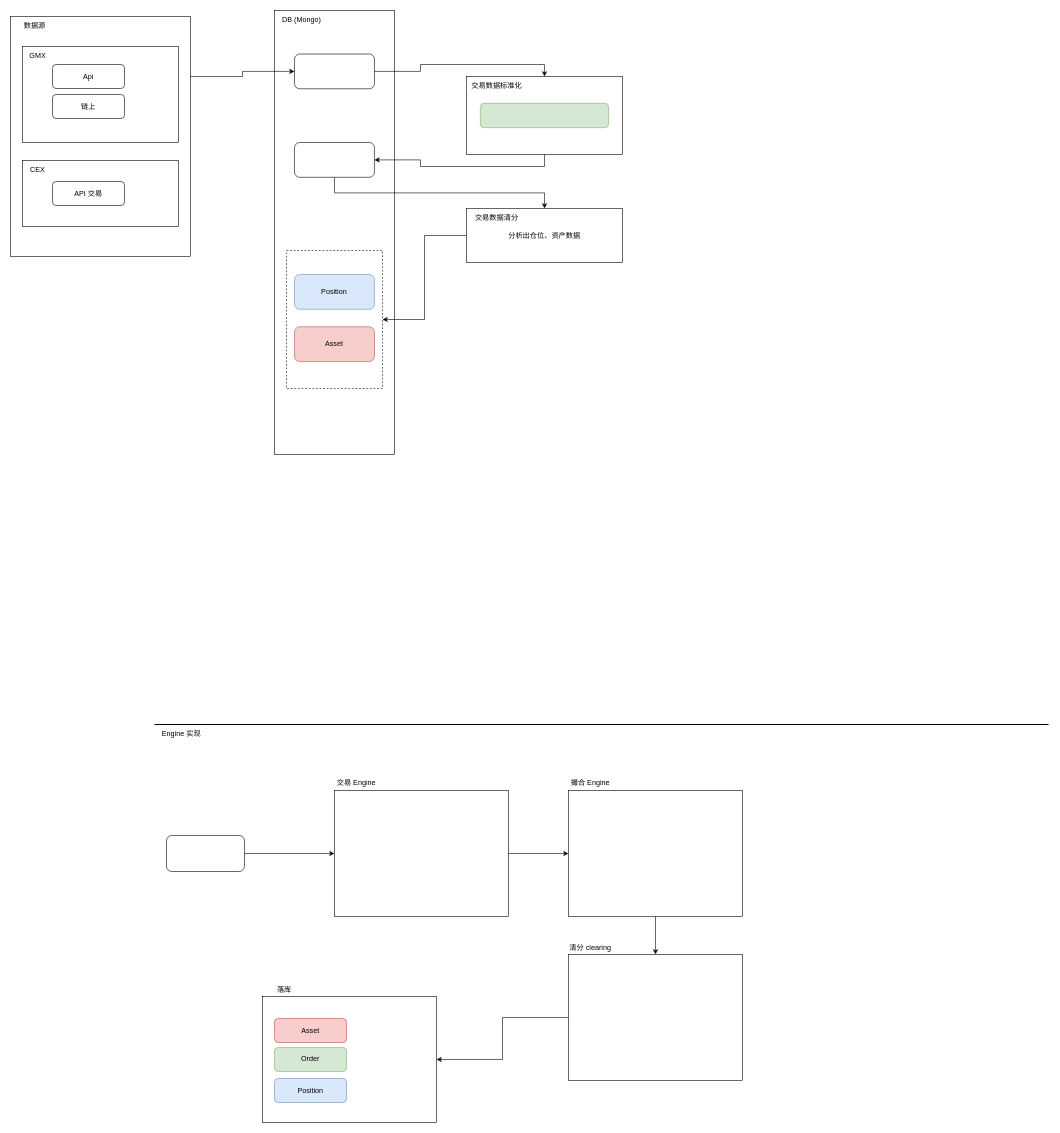
Image size: 1060x1133. Some labels were removed from this diagram. Each missing label, with the centre of its shape:
Trades 抽象一个标准的输入交易模型: pixel 544 115
不同交易源数据: pixel 334 71
交易数据: pixel 334 159
用户交易输入: pixel 205 853
